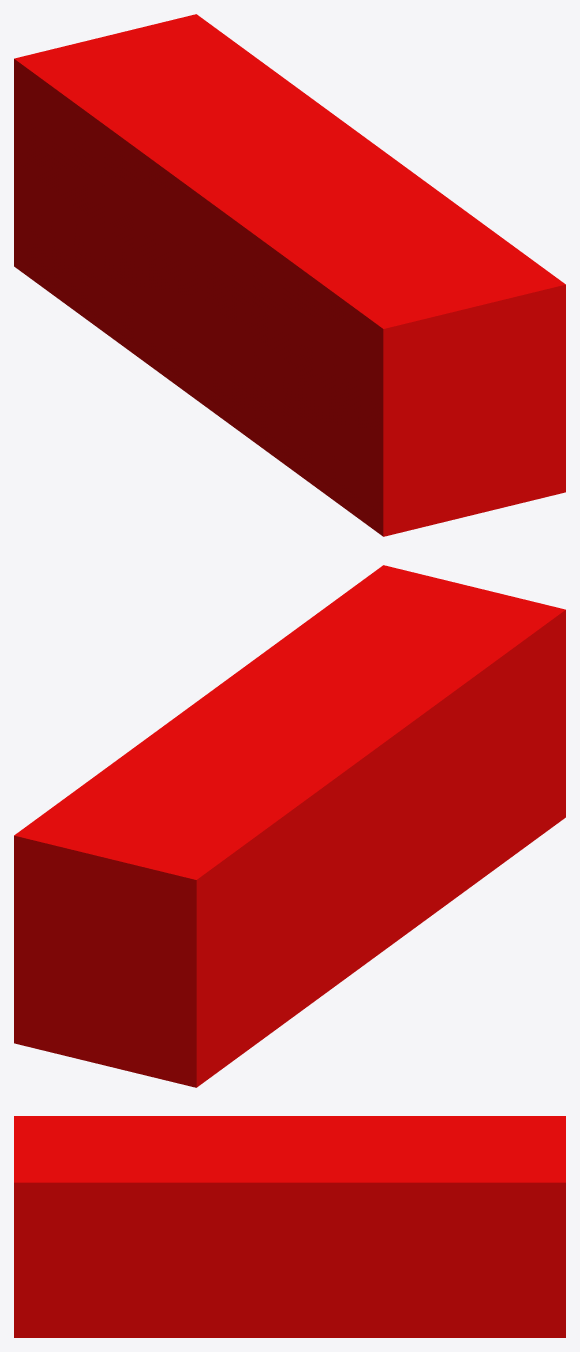
File: fingers15_col.dae
The picture shows the model from 3 angles, top to bottom: view 1: azimuth 30°, elevation 25°; view 2: azimuth 150°, elevation 25°; view 3: azimuth 270°, elevation 25°; orthographic projection. The views are drawn at different scales.
Parts seen in each view (by area): view 1: node0; view 2: node0; view 3: node0.
Part boxes in pixels (left/top/right/bottom): node0: left=14, top=14, right=565, bottom=536; node0: left=14, top=565, right=565, bottom=1087; node0: left=14, top=1116, right=565, bottom=1337.
Size of the model in its own units: 0.0123 by 0.0134 by 0.0432.
